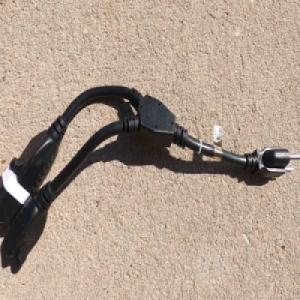Wire: (0, 84, 300, 270)
